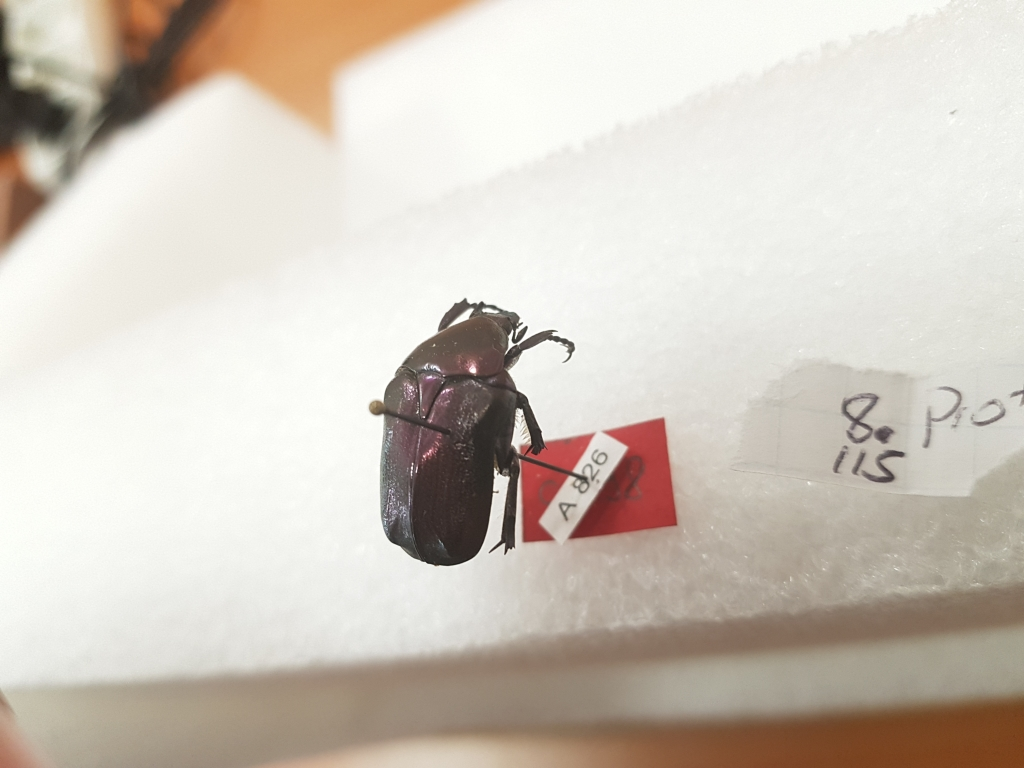Protaetia_besucheti: (382, 287, 573, 567)
